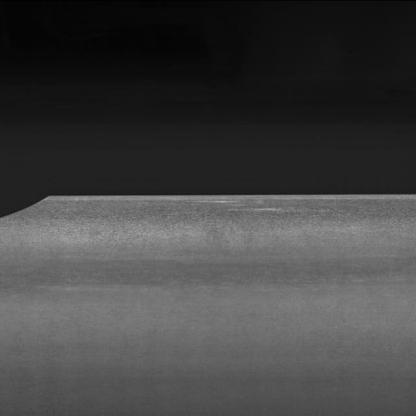crescent_gap: (1, 185, 55, 228)
